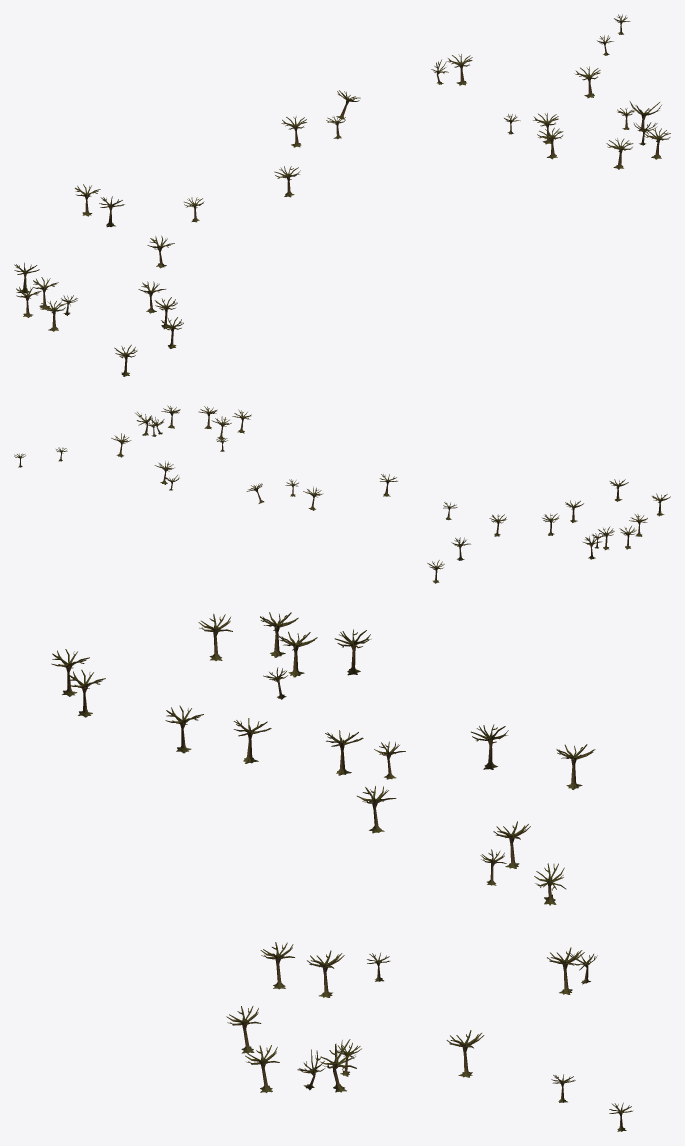
File: Tree_Block_3.FBX
The picture shows the model from 3 angles, top to bottom: view 1: azimuth 30°, elevation 25°; view 2: azimuth 150°, elevation 25°; view 3: azimuth 270°, elevation 25°; orthographic projection. The views are drawn at different scales.
Parts seen in each view (by area): view 1: Tree:Tree161; view 2: Tree:Tree161; view 3: Tree:Tree161.
Boxes of the visible parts, x1,y1,x2,y2 form: Tree:Tree161: [14, 14, 670, 376]; Tree:Tree161: [14, 405, 670, 583]; Tree:Tree161: [51, 612, 633, 1131].
Bounding box in the file's own units: 642 × 61.47 × 303.
